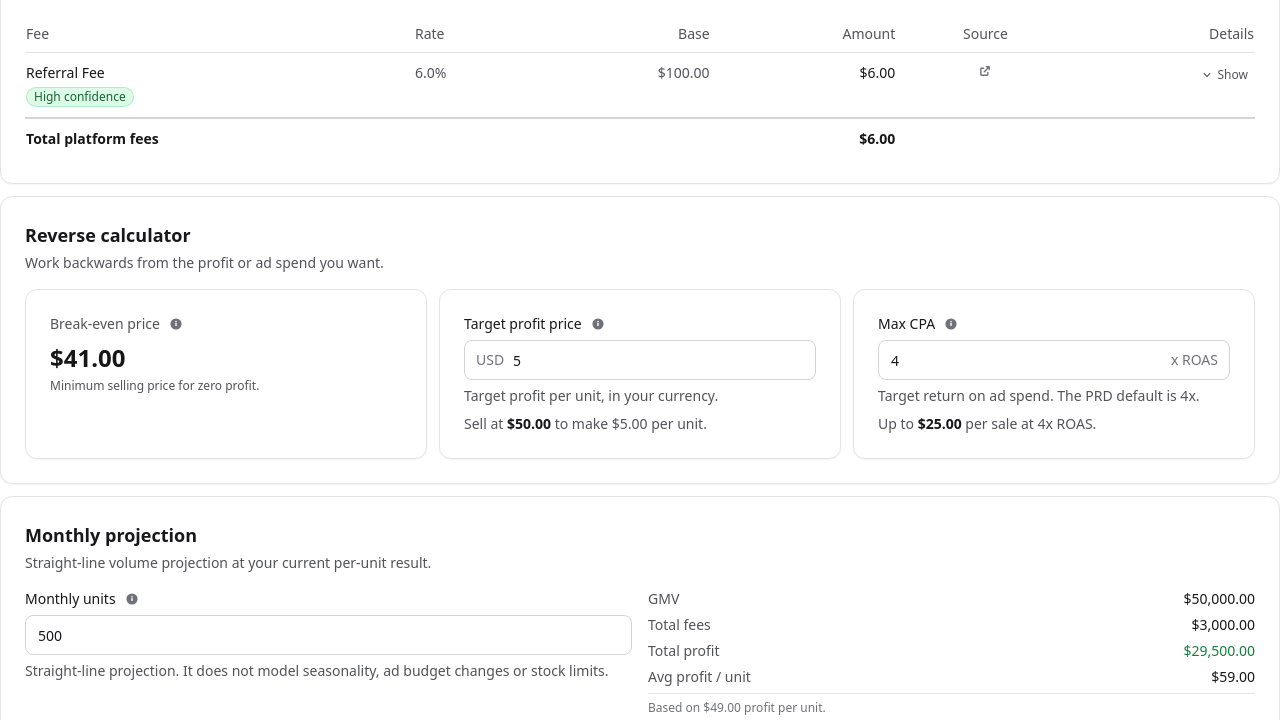
Test: ResultsPanel › keeps the last good numbers and warns when a refresh fails
(page scrolled)
Replace the text in the number field labelled "Max CPA" with "3": (1054, 360) [878,340,1230,380]
(page scrolled)
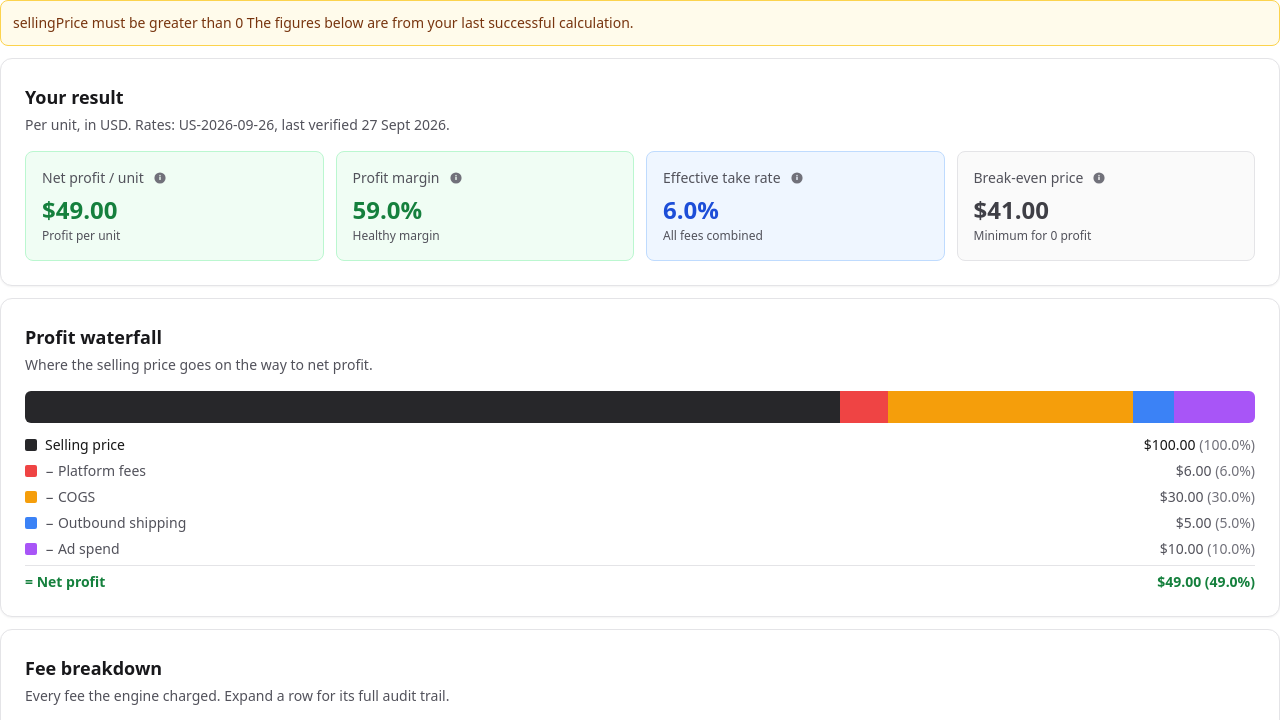
Expected: the text "$49.00" is shown, [42,193,118,226]
Now the message shows "sellingPrice must be greater than 0", box [13,13,243,32]
Now the message shows "last successful calculation", box [243,13,634,32]
